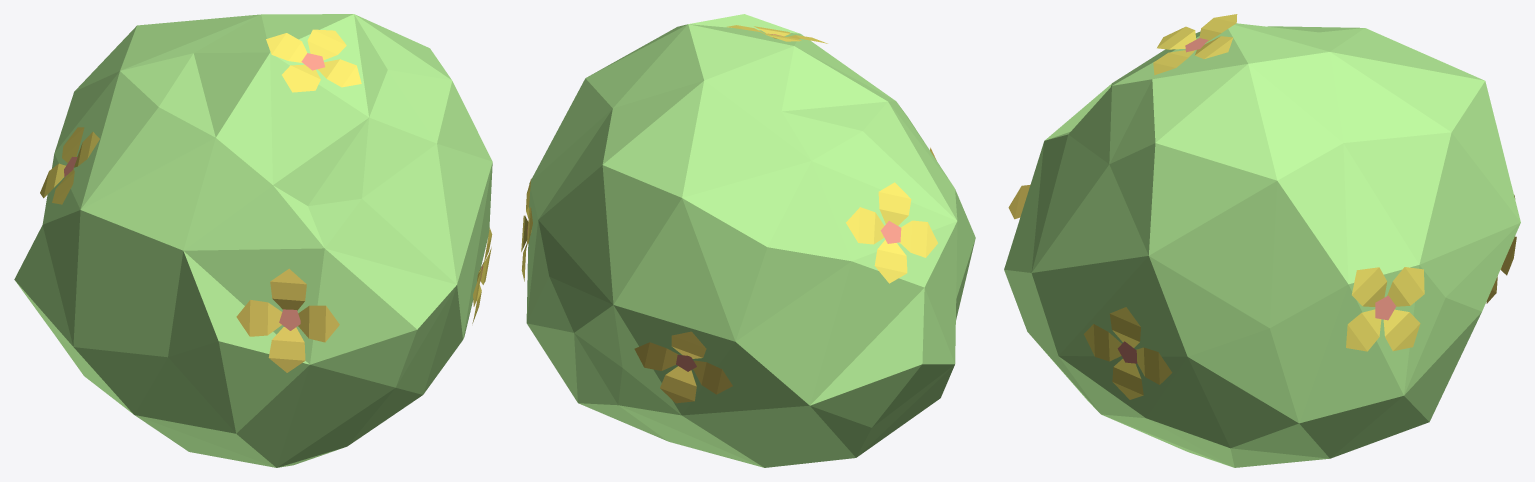
File: FlowerBush_b_m_02.fbx
The picture shows the model from 3 angles, left to right: view 1: azimuth 30°, elevation 25°; view 2: azimuth 150°, elevation 25°; view 3: azimuth 270°, elevation 25°; orthographic projection. The views are drawn at different scales.
Visible parts, largest first — view 1: FlowerBush_b_m_02; view 2: FlowerBush_b_m_02; view 3: FlowerBush_b_m_02.
Part boxes in pixels (<box>): FlowerBush_b_m_02: <box>14,14,492,467</box>; FlowerBush_b_m_02: <box>521,14,975,467</box>; FlowerBush_b_m_02: <box>1004,14,1520,467</box>.
Bounding box in the file's own units: 171 × 163 × 175.
